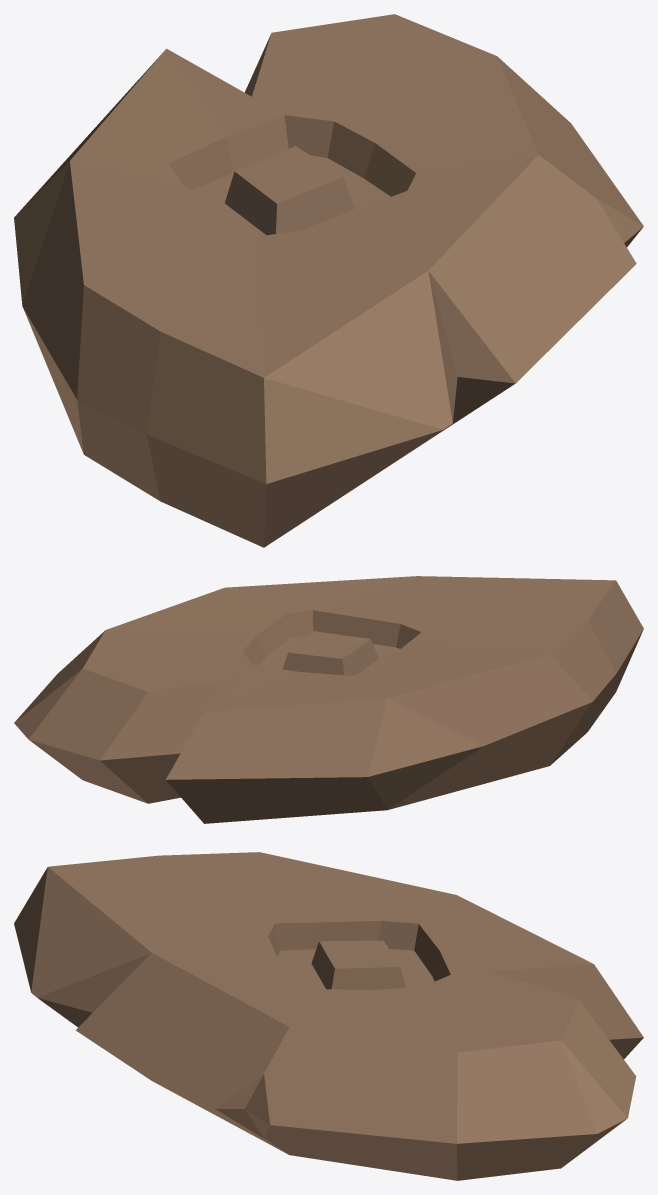
Rendered from Rune_01.FBX.
3 views of the same model, one above another, from view 1: azimuth 30°, elevation 25°; view 2: azimuth 150°, elevation 25°; view 3: azimuth 270°, elevation 25° (orthographic). The views are drawn at different scales.
Visible parts, largest first — view 1: Rune_01; view 2: Rune_01; view 3: Rune_01.
Part boxes in pixels (x1,y1,x2,y2): Rune_01: (14,14,643,547); Rune_01: (14,576,643,823); Rune_01: (14,852,643,1180).
Size of the model in its own units: 38.61 by 9.59 by 42.67.
